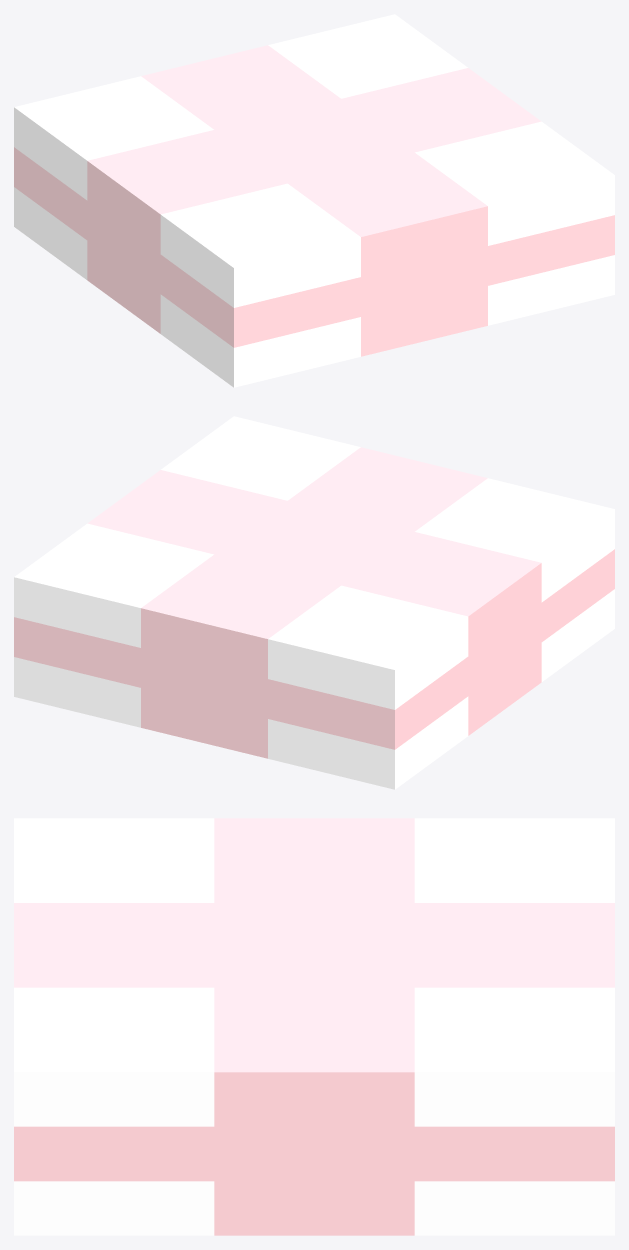
File: health-box.gltf
3 views of the same model, one above another, from view 1: azimuth 30°, elevation 25°; view 2: azimuth 150°, elevation 25°; view 3: azimuth 270°, elevation 25° (orthographic). The views are drawn at different scales.
Size of the model in its own units: 3 by 0.9 by 3.
